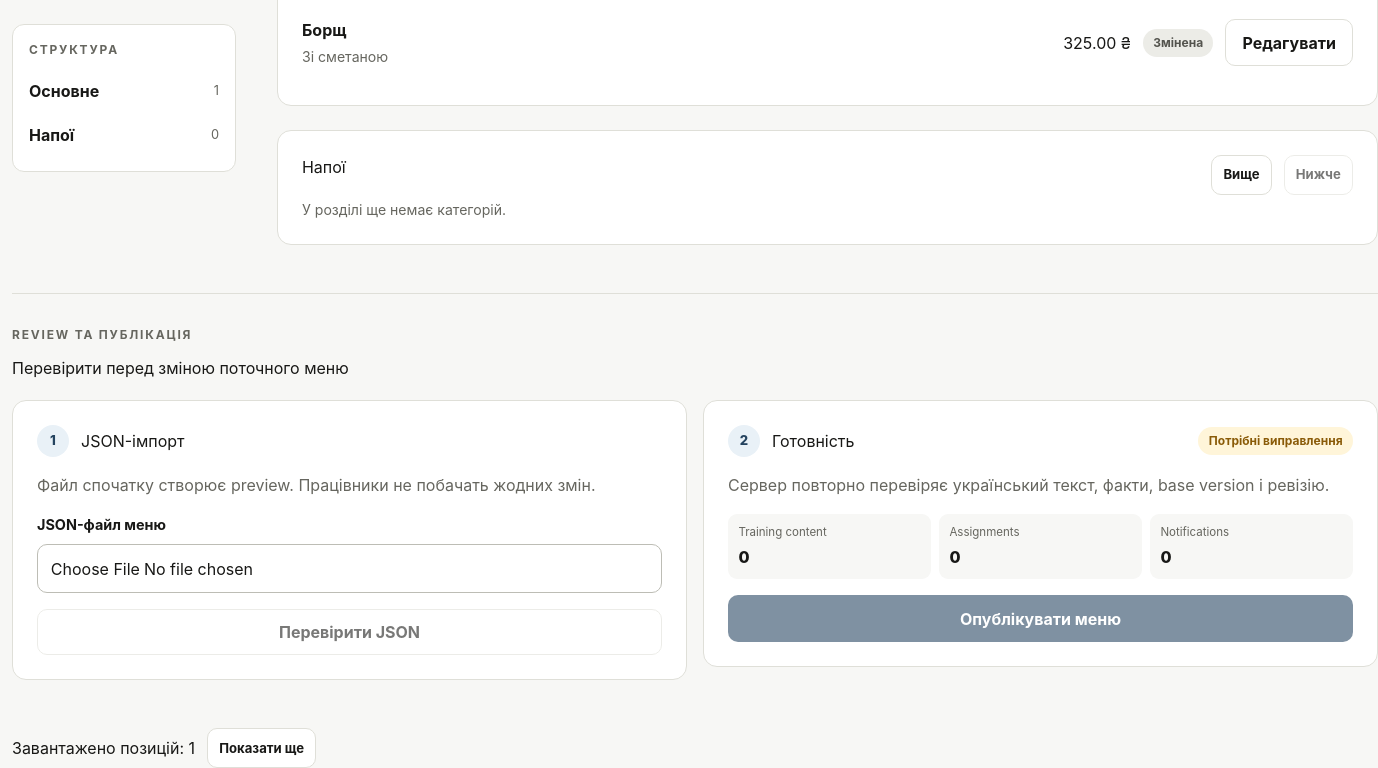
Test: Admin Menu workspace › rejects a next page from a changed revision and offers a fresh read
(page scrolled)
Expected: the text "Борщ" is shown, [302, 20, 346, 40]
Click the button "Показати ще" at (262, 748), box [207, 728, 316, 767]
(page scrolled)
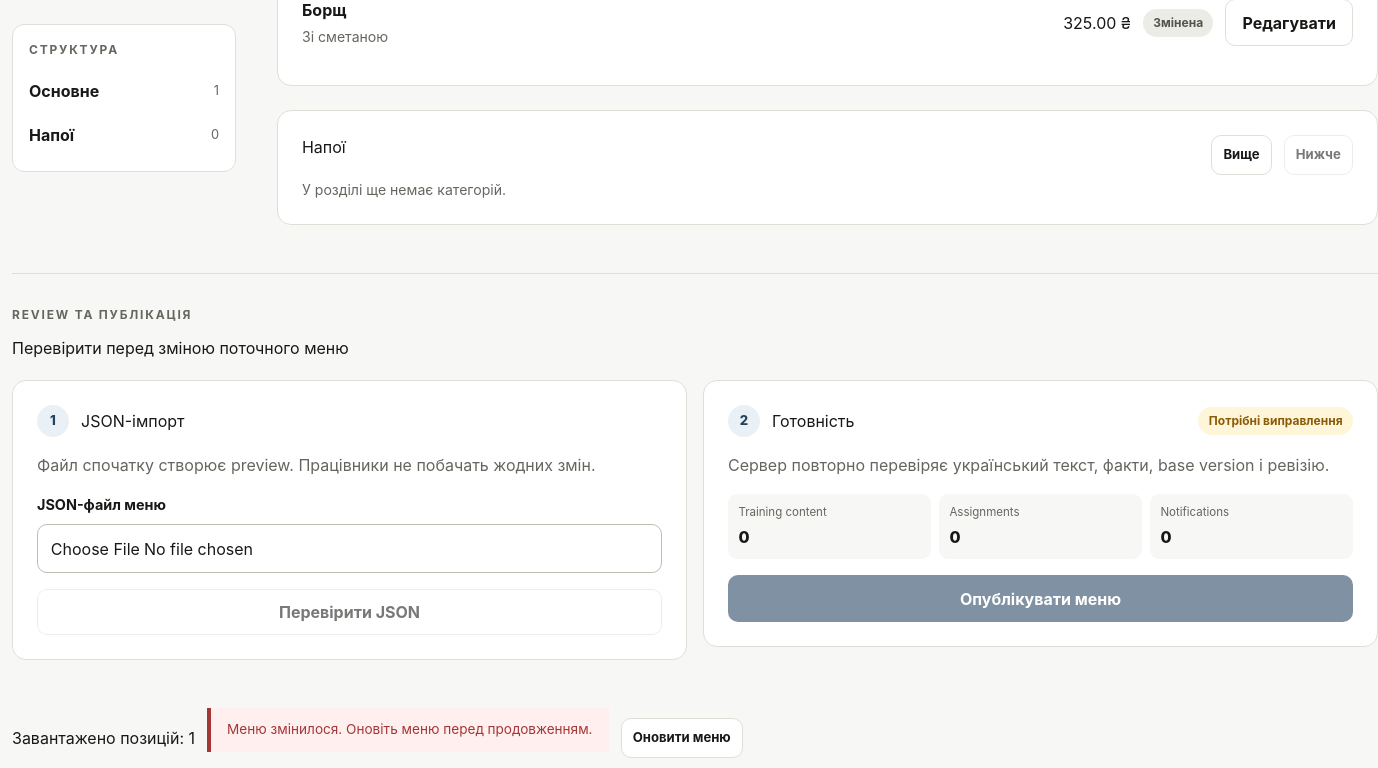
Now the message shows "Меню змінилося", box [227, 722, 593, 738]
Click the button "Оновити меню" at (682, 738), box [620, 718, 743, 758]
(page scrolled)
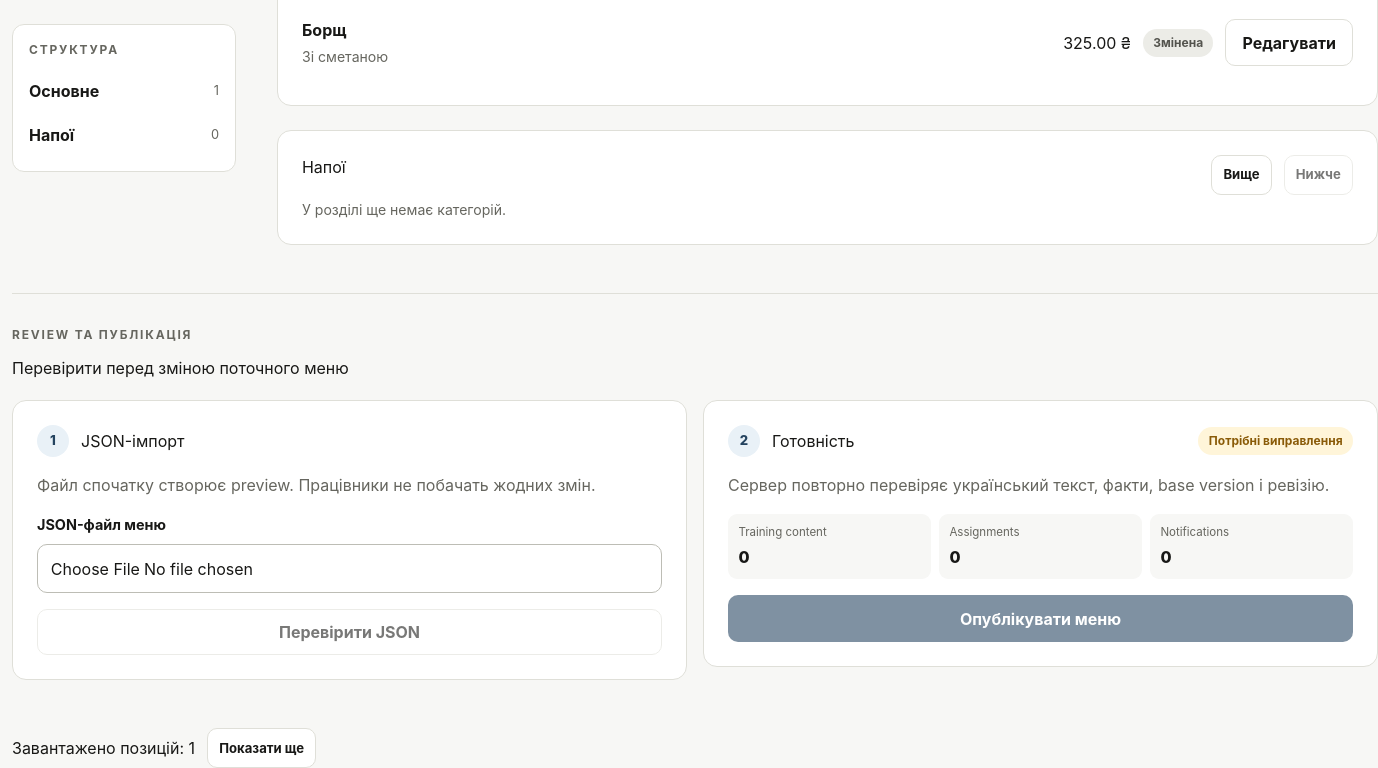
Now the button "Показати ще" is shown, box [207, 728, 316, 767]
